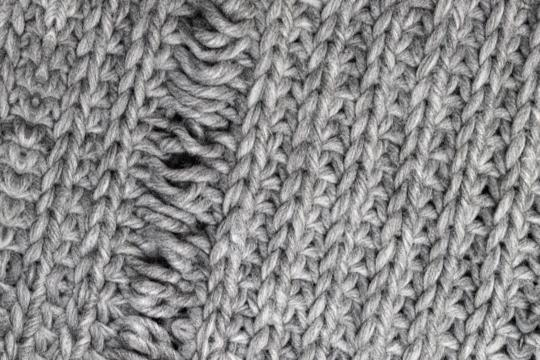slub: (119, 2, 265, 360)
